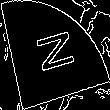N_W: (31, 29, 79, 81)
